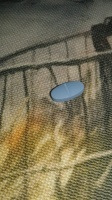Majezik: (48, 80, 85, 103)
